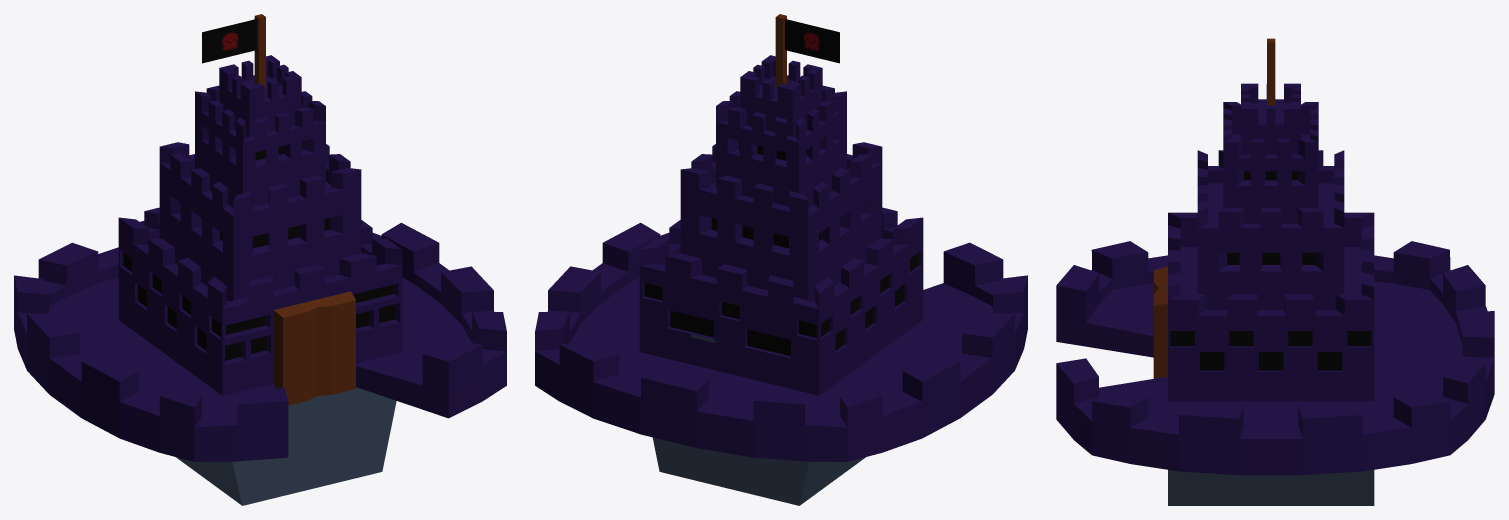
The model's file is Enemy Base.fbx.
3 renders of one model, left to right at view 1: azimuth 30°, elevation 25°; view 2: azimuth 150°, elevation 25°; view 3: azimuth 270°, elevation 25°, orthographic.
Visible parts, largest first — view 1: Cube, Cube.002, Cube.001; view 2: Cube, Cube.002, Cube.001; view 3: Cube, Cube.001.
Part boxes in pixels (x1,y1,x2,y2): Cube: (14, 55, 506, 505); Cube.002: (202, 19, 256, 63); Cube.001: (254, 14, 265, 88); Cube: (535, 55, 1027, 505); Cube.002: (785, 19, 839, 63); Cube.001: (775, 14, 786, 88); Cube: (1056, 83, 1494, 505); Cube.001: (1267, 38, 1275, 105).
Bounding box in the file's own units: 10837 × 11541 × 10623.
